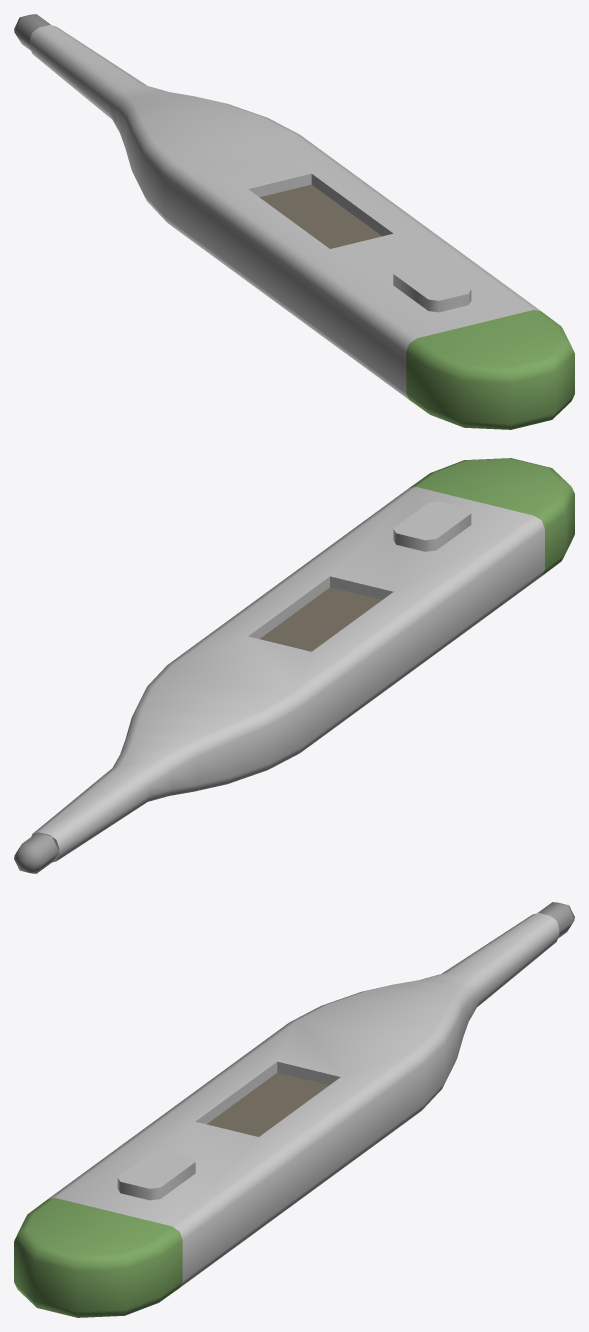
Rendered from Thermometer_01.fbx.
3 views of the same model, one above another, from view 1: azimuth 30°, elevation 25°; view 2: azimuth 150°, elevation 25°; view 3: azimuth 330°, elevation 25° (orthographic).
Visible parts, largest first — view 1: Thermometer_01; view 2: Thermometer_01; view 3: Thermometer_01.
Boxes of the visible parts, left/top/right/bottom form: Thermometer_01: left=14, top=14, right=574, bottom=429; Thermometer_01: left=14, top=458, right=574, bottom=873; Thermometer_01: left=14, top=902, right=574, bottom=1317.
Bounding box in the file's own units: 0.0241 × 0.0123 × 0.1537.
